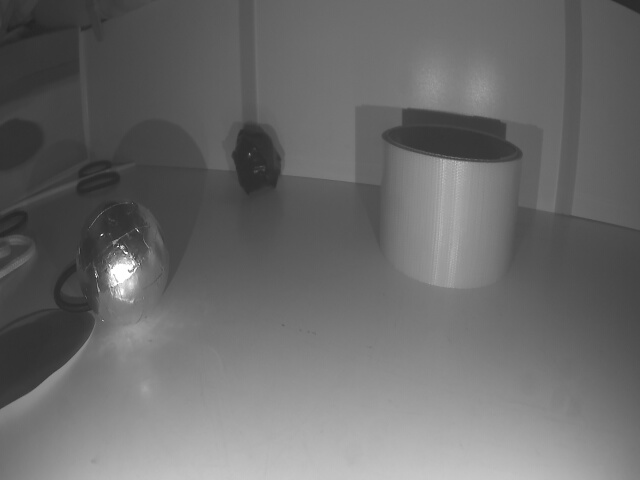Dead: (233, 121, 281, 194)
Live: (73, 202, 172, 326)
